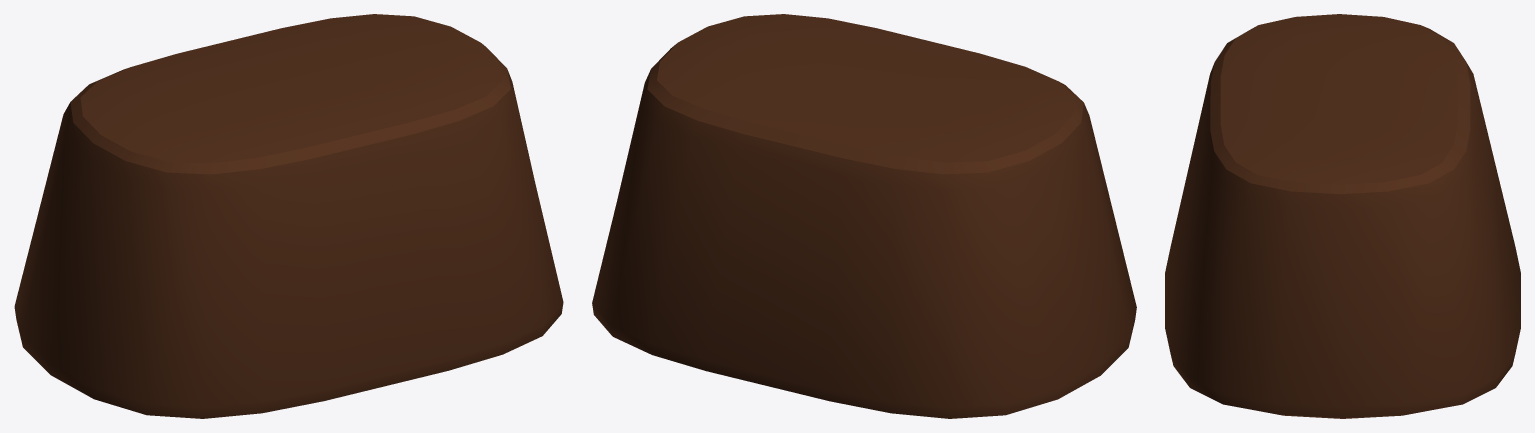
File: RockPlatforms_Large.fbx
The picture shows the model from 3 angles, left to right: view 1: azimuth 30°, elevation 25°; view 2: azimuth 150°, elevation 25°; view 3: azimuth 270°, elevation 25°; orthographic projection. The views are drawn at different scales.
Parts seen in each view (by area): view 1: RockPlatforms_Large; view 2: RockPlatforms_Large; view 3: RockPlatforms_Large.
Part boxes in pixels (box(x1,y1,x2,y2)): RockPlatforms_Large: box(14, 14, 563, 418); RockPlatforms_Large: box(592, 14, 1136, 418); RockPlatforms_Large: box(1165, 14, 1520, 418).
Bounding box in the file's own units: 738 × 363 × 516.
